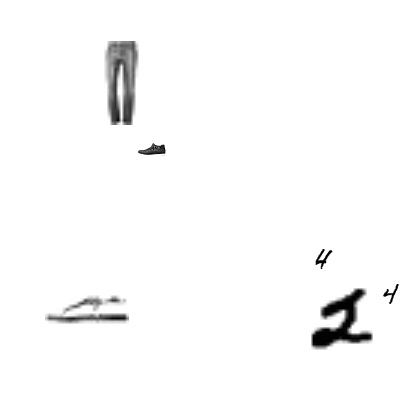2: (297, 280, 381, 364)
4: (308, 244, 336, 272), (377, 279, 405, 307)
Ankle_boot: (138, 135, 166, 163)
Sandal: (45, 266, 129, 350)
Trouser: (78, 41, 162, 125)
